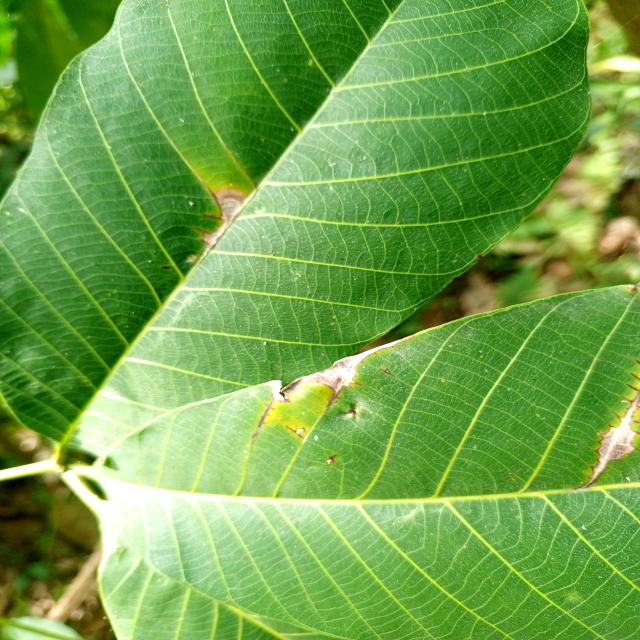Corynespora: (572, 359, 640, 490), (250, 399, 274, 442), (328, 388, 341, 408), (285, 426, 305, 438), (204, 213, 222, 221), (379, 368, 394, 377)
Leaf-Blight: (262, 337, 410, 402), (203, 189, 250, 254)
